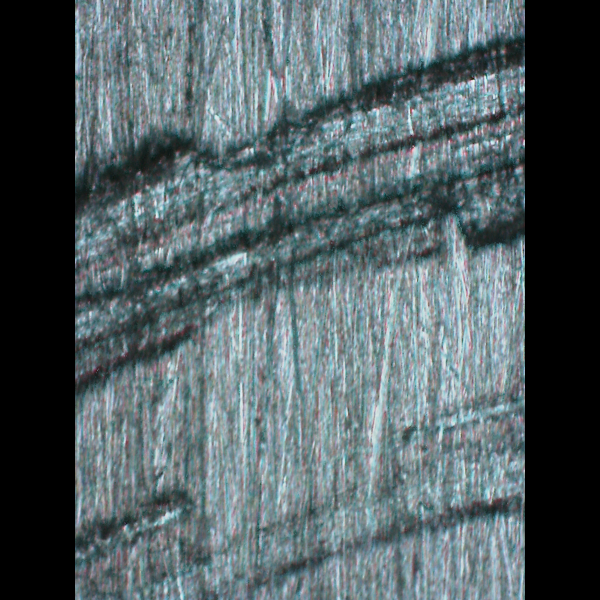d: (82, 18, 523, 403), (232, 391, 524, 580), (75, 471, 210, 599)
